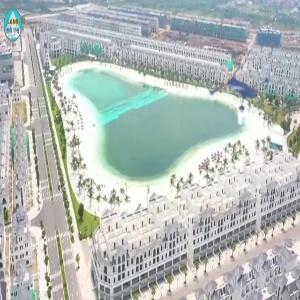drone: (196, 54, 283, 141)
